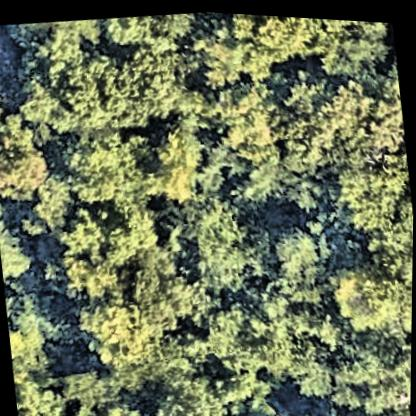tree-top: (8, 0, 212, 145), (58, 197, 200, 372), (256, 50, 409, 184), (204, 277, 343, 390), (224, 10, 397, 88), (192, 67, 298, 171), (325, 221, 414, 343), (62, 118, 161, 221), (182, 191, 271, 296), (325, 321, 412, 416), (258, 210, 339, 309), (321, 148, 414, 234), (145, 112, 212, 211), (4, 281, 67, 380), (182, 13, 261, 91), (55, 356, 150, 416), (222, 136, 298, 208), (138, 359, 228, 416), (0, 111, 49, 205), (209, 358, 286, 416), (21, 168, 77, 228), (0, 211, 36, 290), (13, 367, 71, 416)
